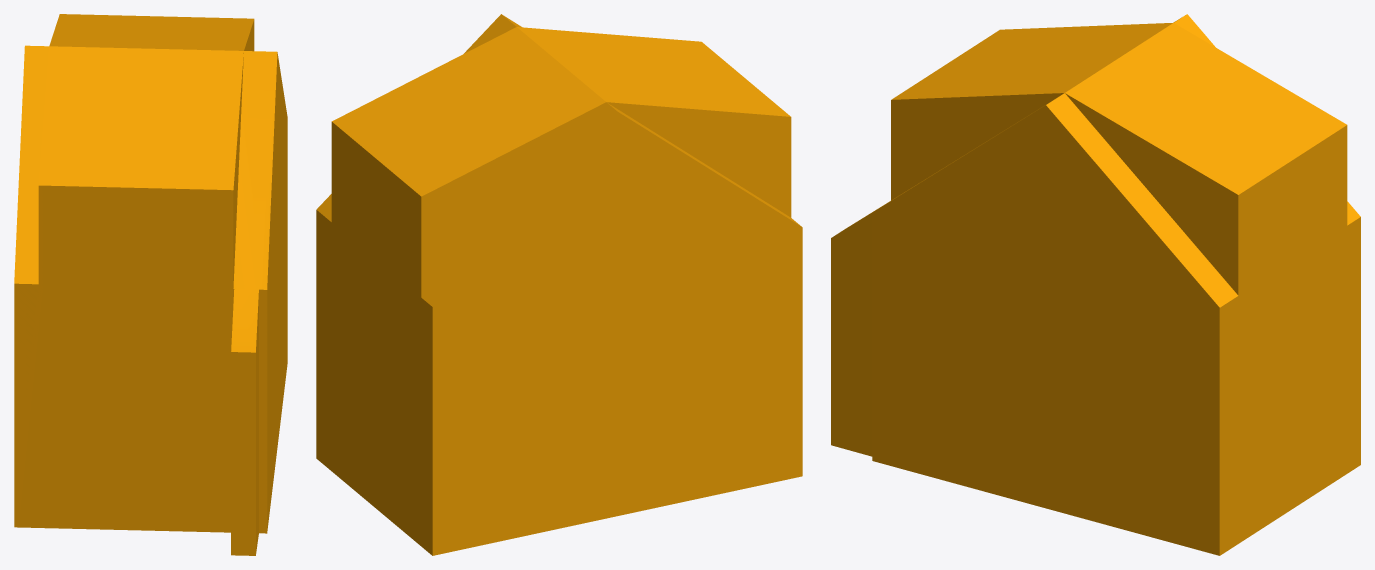
File: DEHB01ALp0000SkK.gltf
3 views of the same model, side by side, from view 1: azimuth 30°, elevation 25°; view 2: azimuth 150°, elevation 25°; view 3: azimuth 270°, elevation 25° (orthographic). The views are drawn at different scales.
Visible parts, largest first — view 1: Z_UP; view 2: Z_UP; view 3: Z_UP.
Boxes of the visible parts, x1,y1,x2,y2 form: Z_UP: (14, 14, 287, 555); Z_UP: (316, 14, 802, 555); Z_UP: (831, 14, 1360, 555).
Size of the model in its own units: 9.42 by 9.51 by 11.32.
